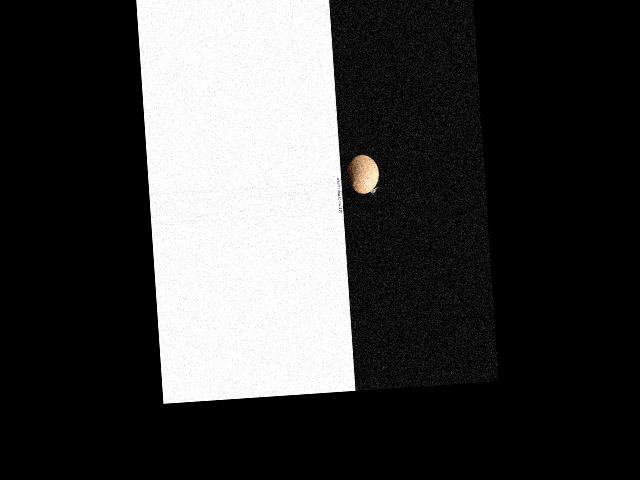egg: (346, 153, 379, 194)
